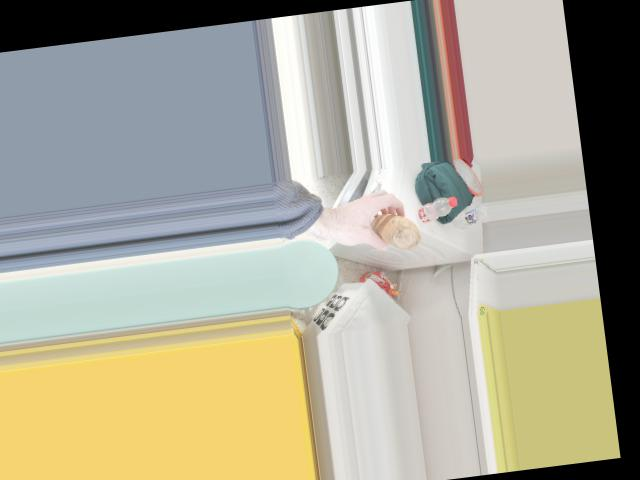sweet_potato: (368, 207, 421, 253)
